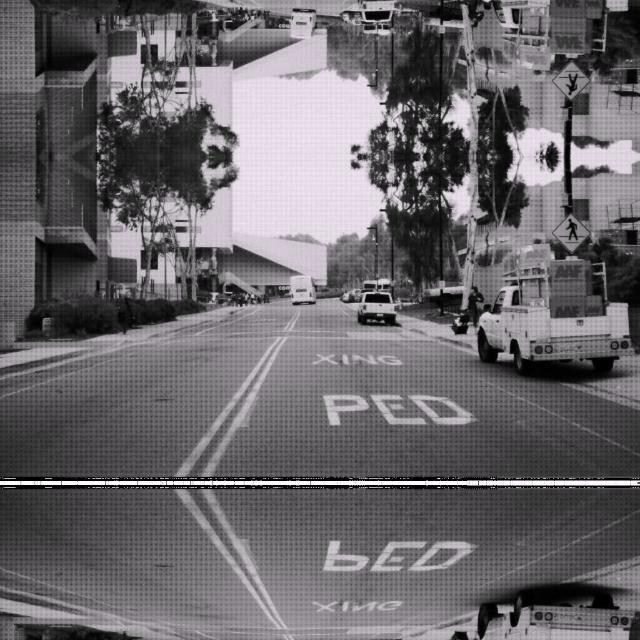pedestrianCrossing: (551, 210, 591, 252), (551, 60, 591, 101)
